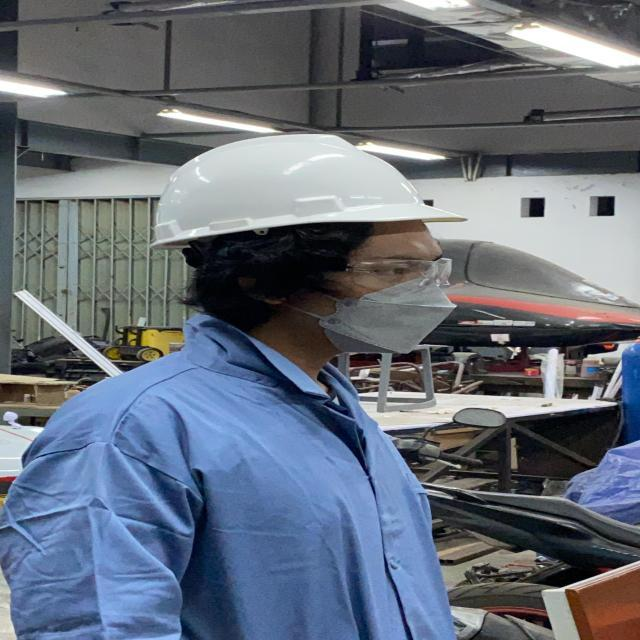glasses: (328, 255, 466, 294)
